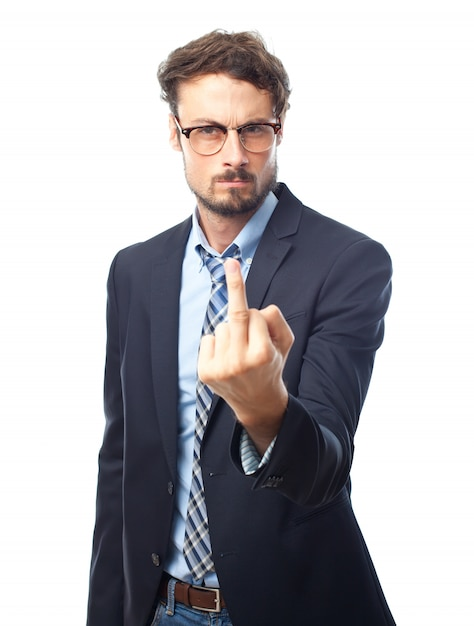insulting_gesture: (196, 258, 294, 416)
